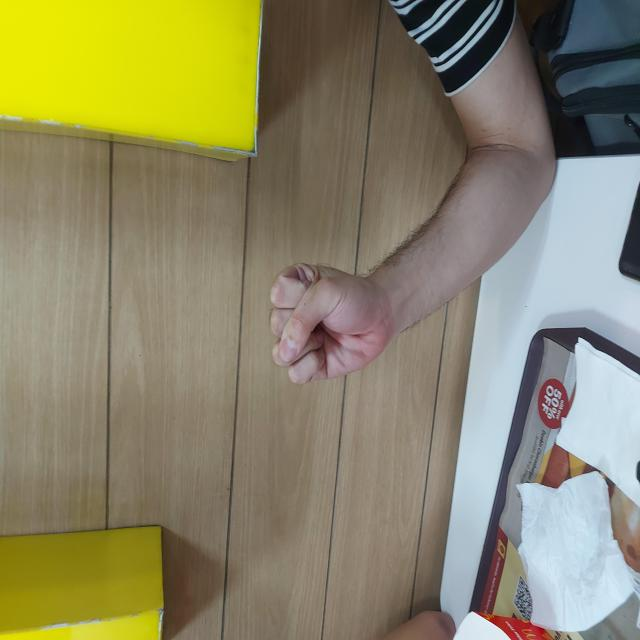S: (253, 266, 380, 386)
